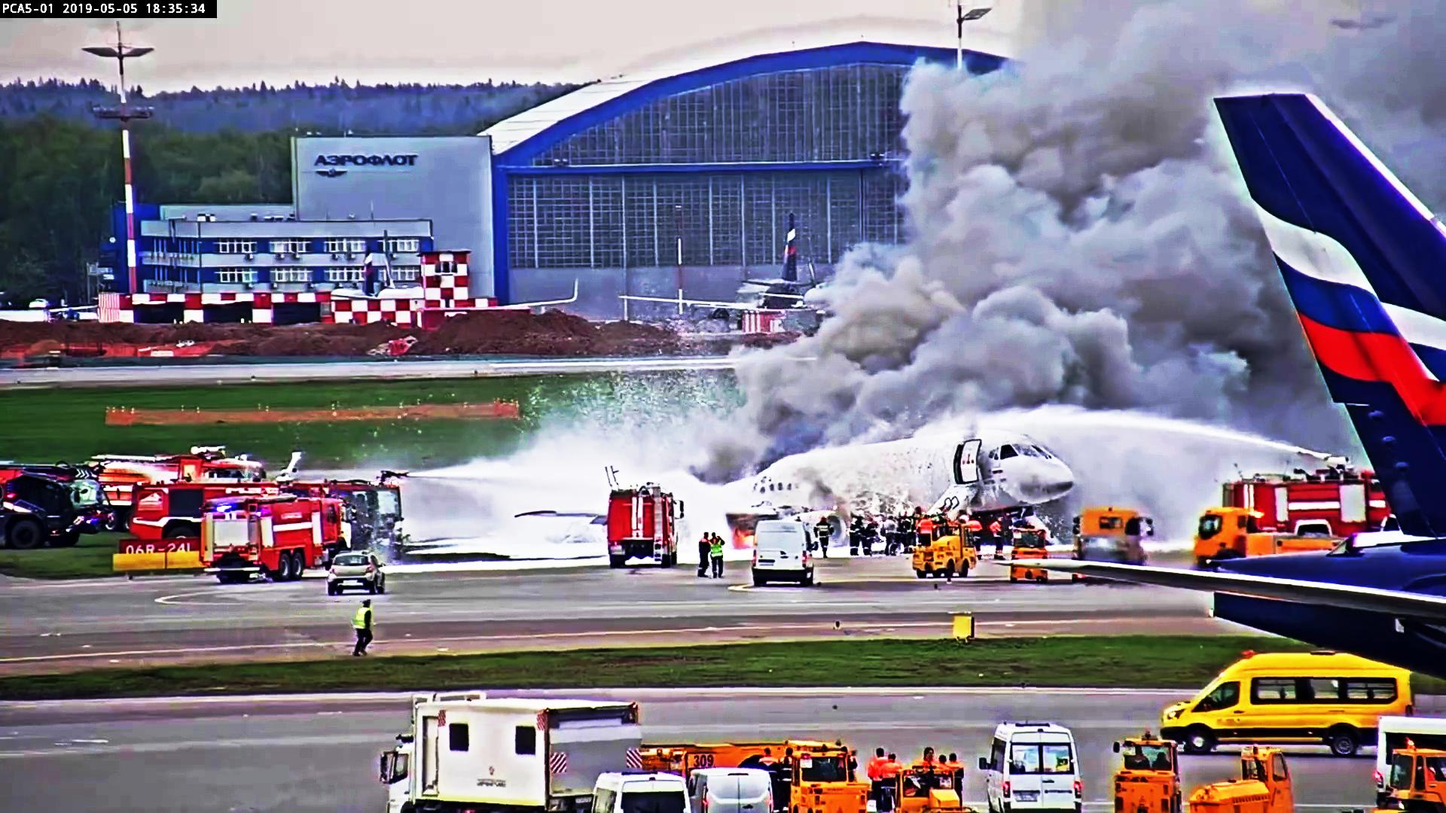smoke: (906, 79, 1129, 394)
